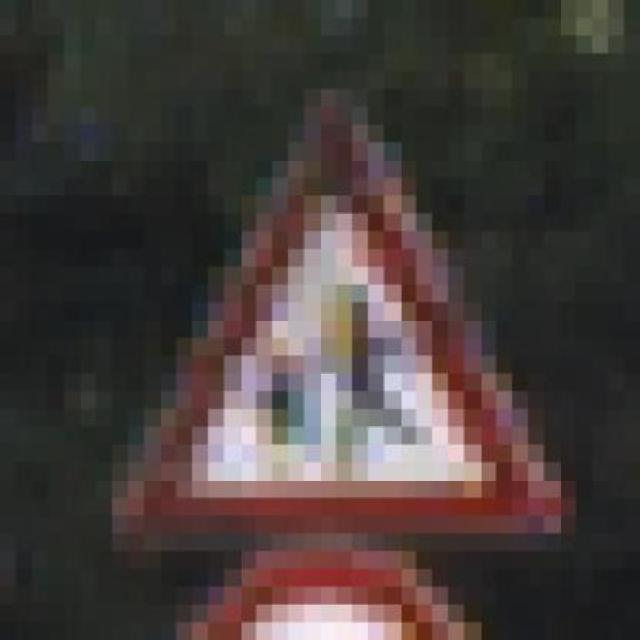Beware of children: (80, 71, 592, 569)
